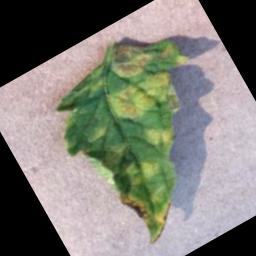Leaf_Mold: (99, 59, 186, 141), (114, 169, 186, 248), (100, 29, 157, 85), (140, 116, 184, 161), (121, 150, 164, 191), (79, 115, 113, 146)
